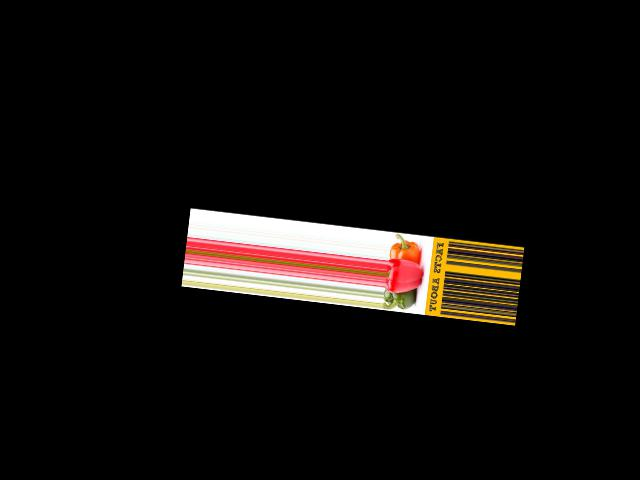bell_pepper: (383, 289, 421, 313)
